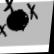not correct: (0, 0, 41, 40)
